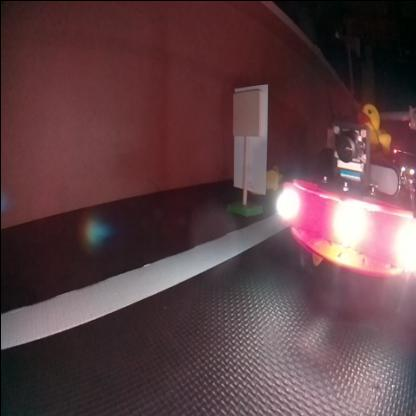Duckie: (359, 102, 389, 149)
Duckiebot: (280, 122, 414, 280)
